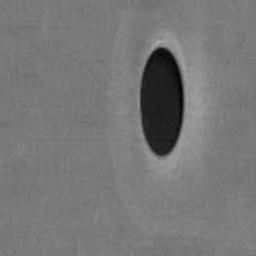Punching: (138, 47, 184, 157)
